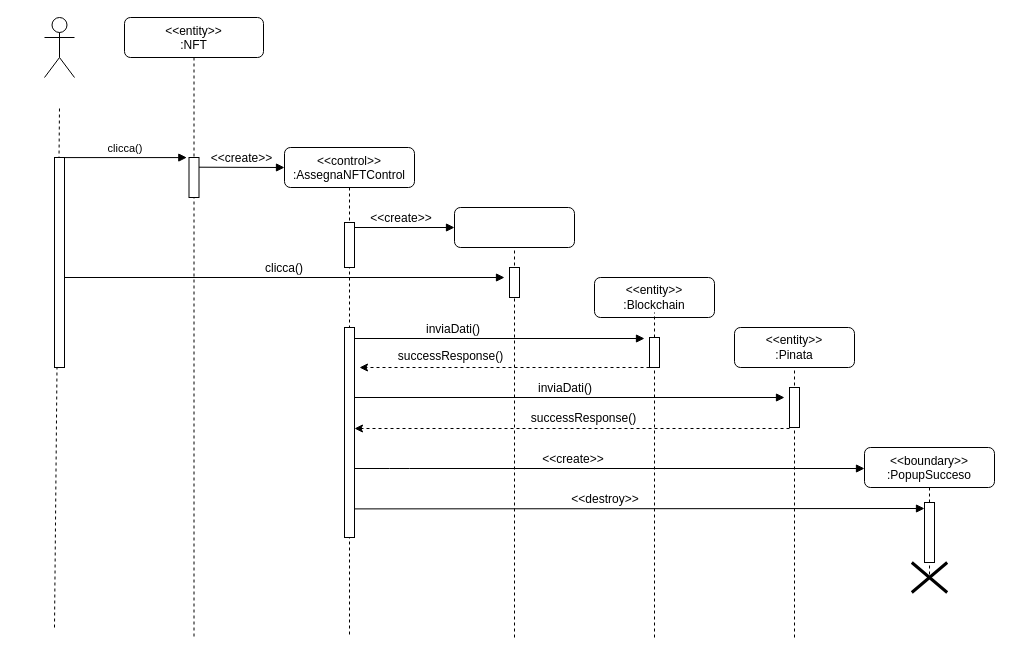
This 1012x656 diagram has some shape labels left out. Each missing label, with the centre of its shape:
":Amministratore" belongs at point 59,47.
"<<boundary>> :AssegnaNFTButton" belongs at point 514,227.
